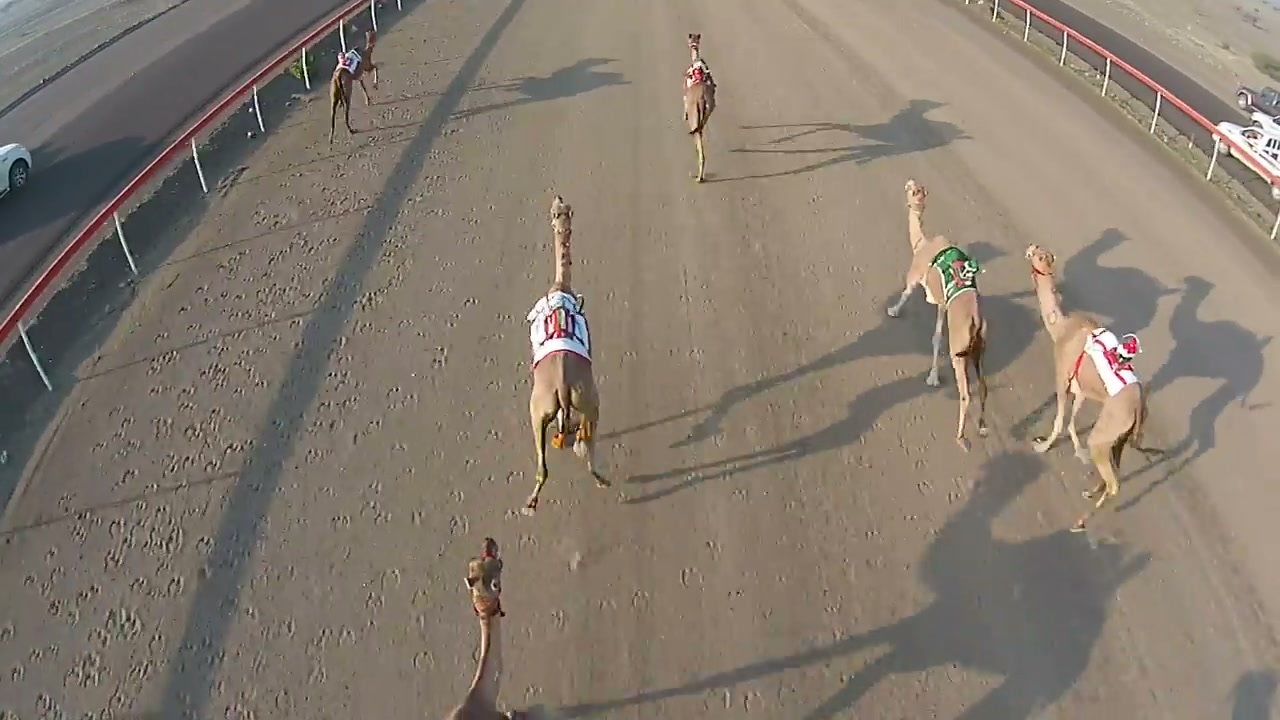animal_footprint: (0, 171, 380, 719)
